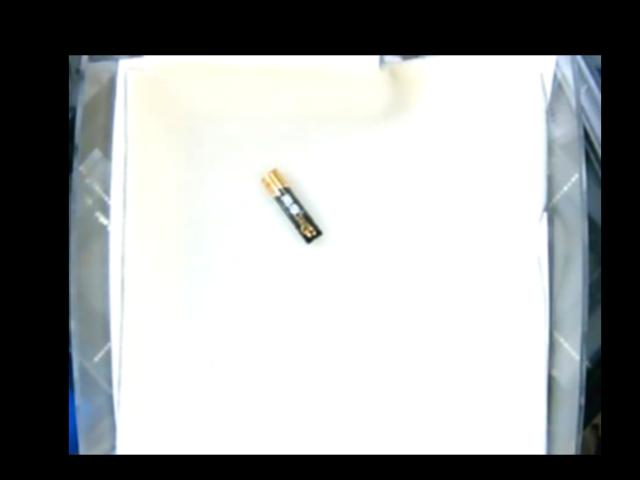Battery: (260, 169, 322, 241)
